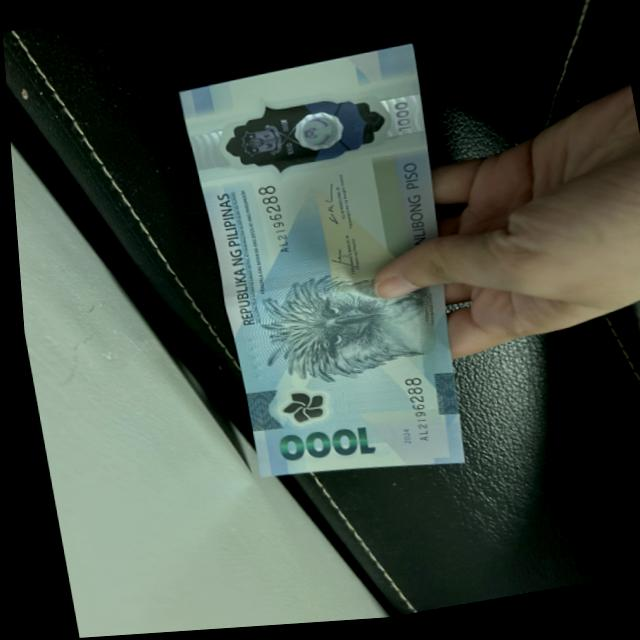clear_window: (216, 90, 385, 183)
eagle: (258, 263, 436, 394)
sampaguita: (275, 394, 320, 429)
